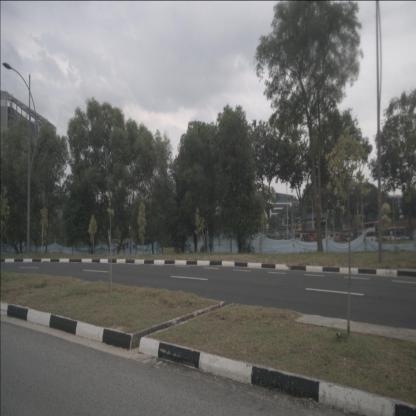vehicle-bus-rigid: (375, 227, 410, 248), (359, 221, 383, 245), (293, 229, 317, 248)
